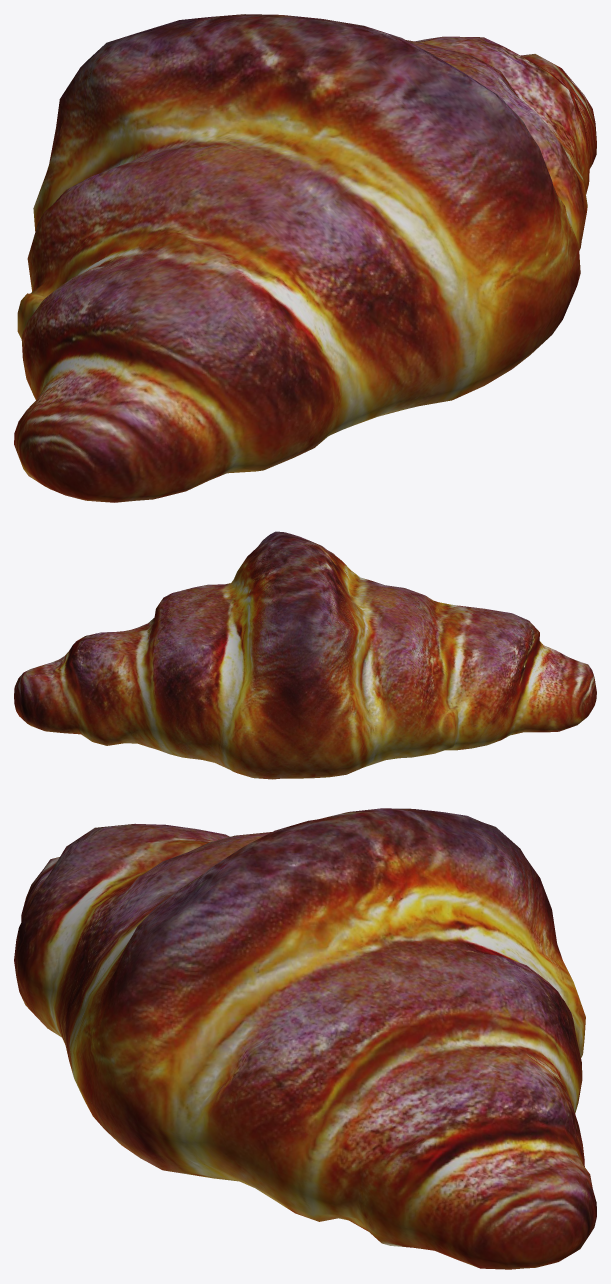
File: croissant.glb
3 renders of one model, top to bottom at view 1: azimuth 30°, elevation 25°; view 2: azimuth 150°, elevation 25°; view 3: azimuth 270°, elevation 25°, orthographic. The views are drawn at different scales.
Parts seen in each view (by area): view 1: Object_2; view 2: Object_2; view 3: Object_2.
Part boxes in pixels (x1,y1,x2,y2): Object_2: (14,14,596,502); Object_2: (14,531,596,779); Object_2: (14,808,596,1269).
Size of the model in its own units: 0.0898 by 0.0354 by 0.0617.
Materials: 1 (1 with a texture image).
